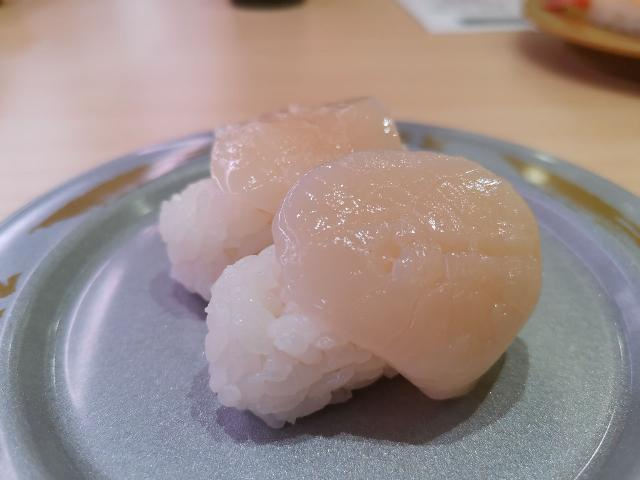janwhite: (0, 117, 630, 453)
